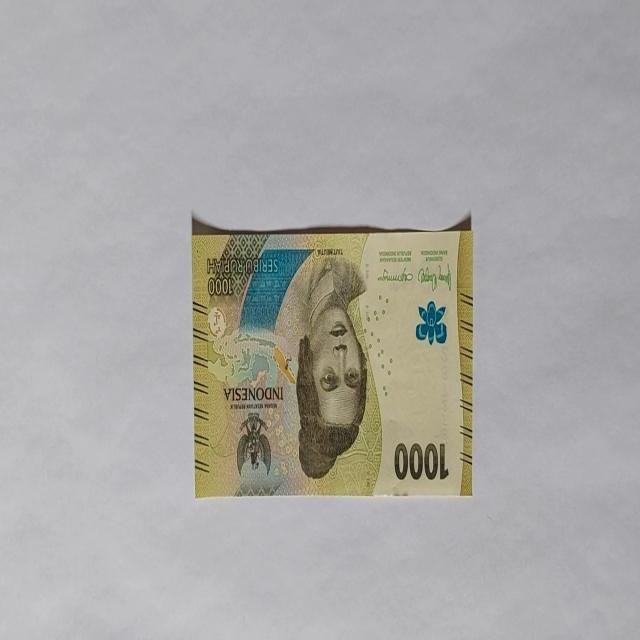seribu rupiah kertas: (192, 218, 474, 498)
